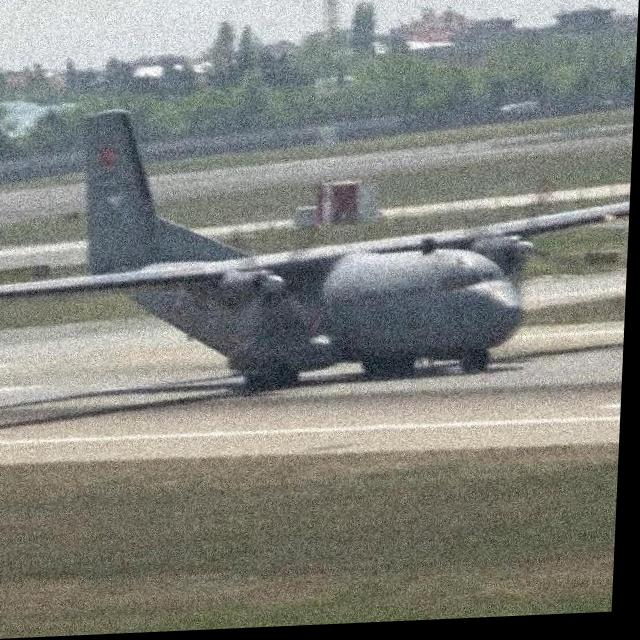airplane: (0, 91, 636, 414)
